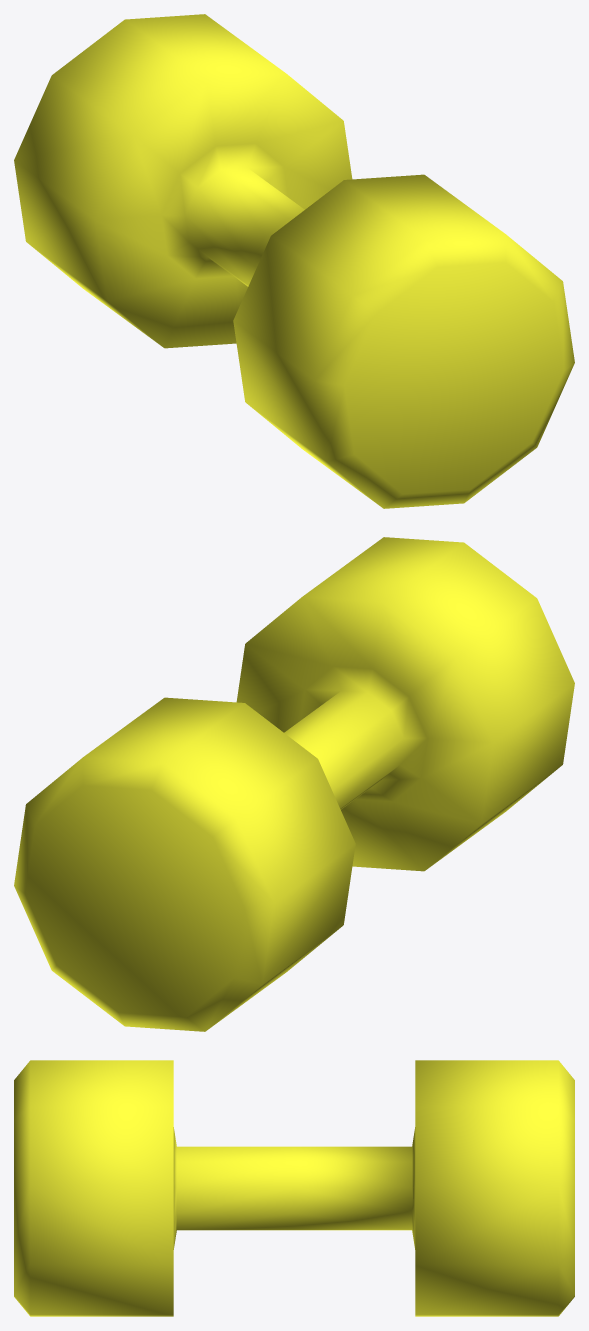
The model's file is ColorfulDumbbells.001.fbx.
3 renders of one model, top to bottom at view 1: azimuth 30°, elevation 25°; view 2: azimuth 150°, elevation 25°; view 3: azimuth 270°, elevation 25°, orthographic. The views are drawn at different scales.
Parts seen in each view (by area): view 1: ColurfulDumbbells.002; view 2: ColurfulDumbbells.002; view 3: ColurfulDumbbells.002.
Part boxes in pixels (x1,y1,x2,y2): ColurfulDumbbells.002: (14,14,574,508); ColurfulDumbbells.002: (14,537,574,1031); ColurfulDumbbells.002: (14,1060,574,1316).
Size of the model in its own units: 5.44 by 5.46 by 11.57.
